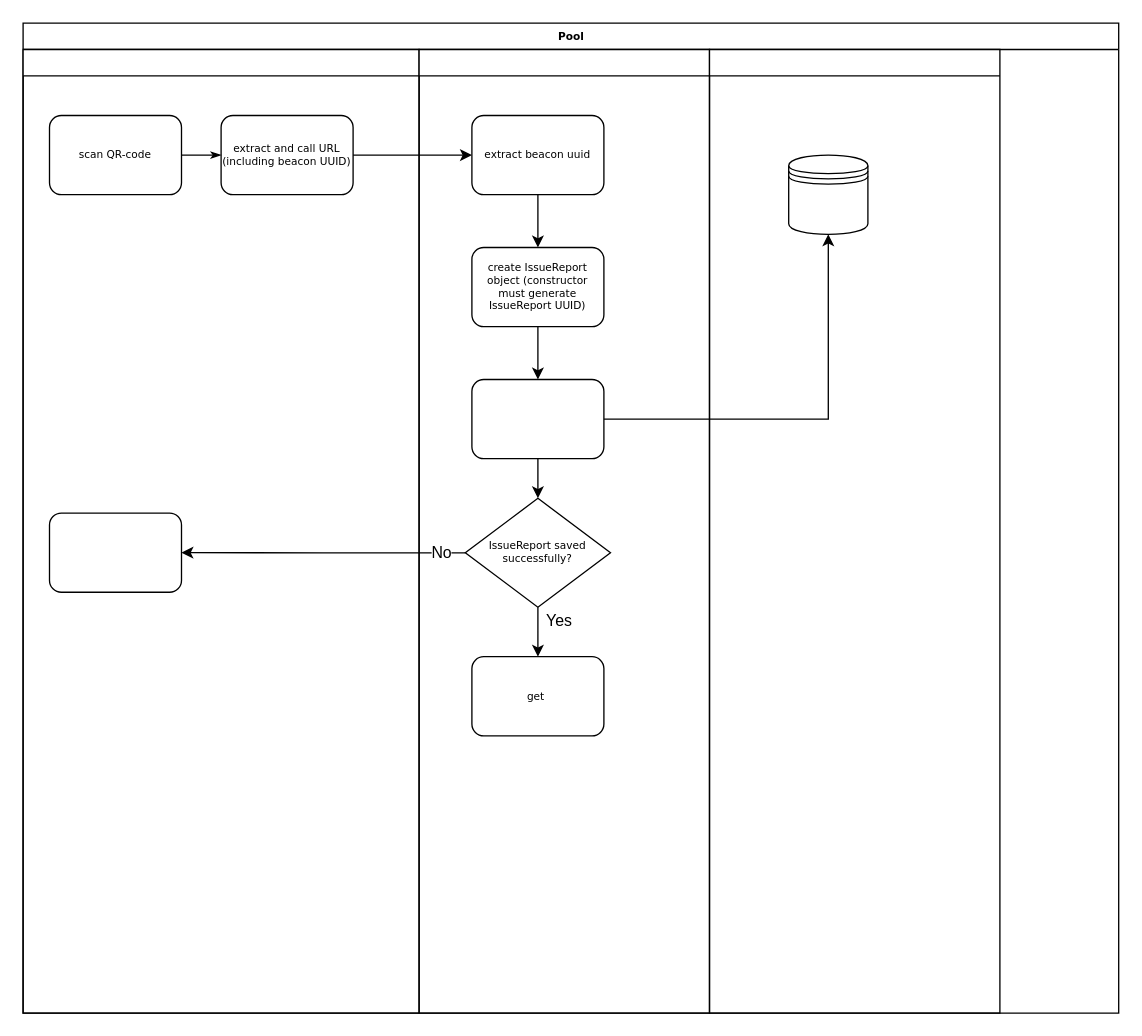
Some shapes in this 1142 by 1036 pixel diagram are drawn without their labels. The box of each missing label's shape, as (x1, y1, x2, y2) in pixels:
backend-server: (418, 48, 710, 1013)
database-server: (708, 48, 1000, 1013)
save IssueReport to database: (471, 378, 604, 459)
user's phone: (22, 48, 419, 1013)
